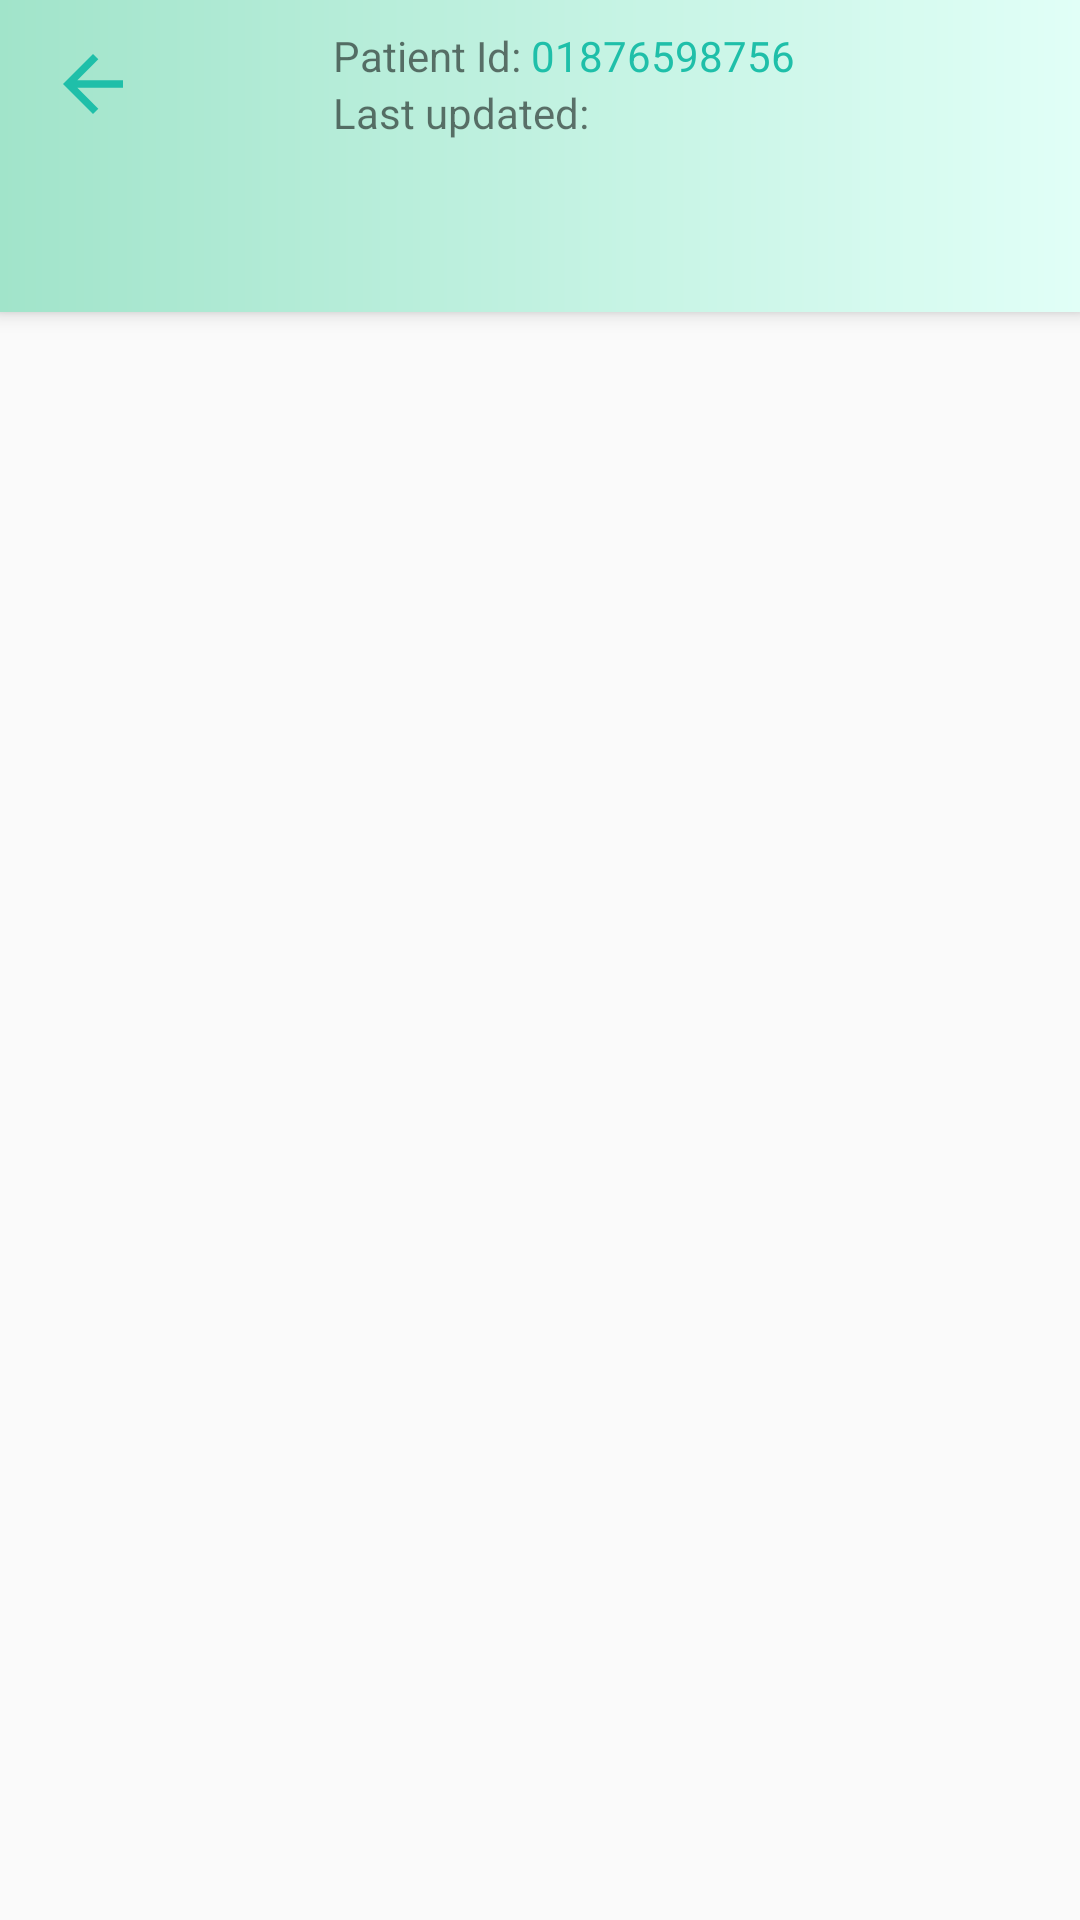

Icon bounding boxes for this 1080px x 1920px phone screenshot, format (left=x1, top=y1, right=x2, bottom=y2):
back arrow: (left=63, top=54, right=123, bottom=114)
